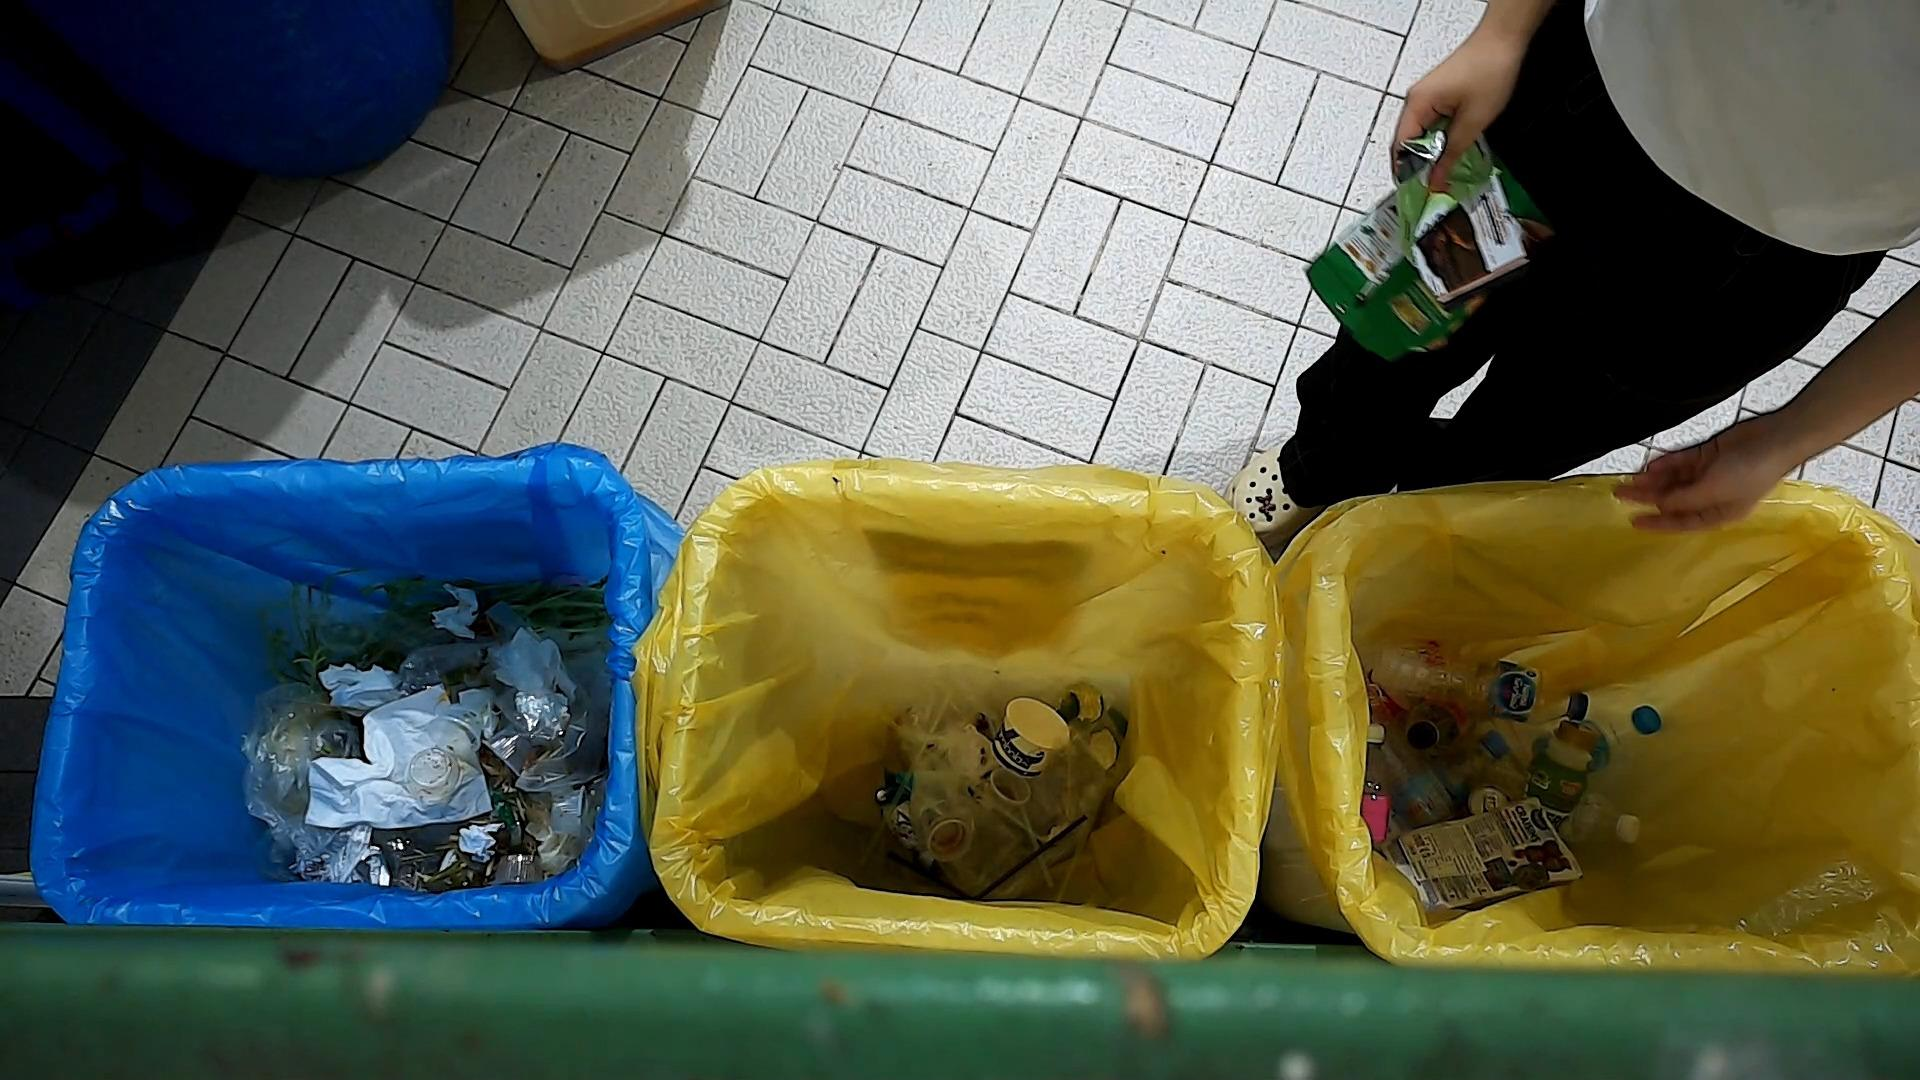can: (1465, 783, 1511, 818)
filled plastic bag: (235, 676, 384, 885)
food container: (993, 696, 1071, 778), (402, 744, 464, 806), (426, 704, 481, 757), (545, 783, 596, 840), (480, 727, 535, 775), (982, 764, 1035, 814), (920, 810, 971, 861), (491, 852, 545, 889)
plastic bottle: (1370, 632, 1593, 725), (1394, 729, 1513, 822), (1518, 719, 1601, 832), (1580, 700, 1664, 766), (1400, 696, 1477, 752), (1360, 721, 1393, 849)
snack packaging: (1298, 112, 1540, 372), (1398, 799, 1584, 911)
straw: (860, 691, 953, 861), (973, 811, 1091, 902), (1050, 803, 1102, 906), (1014, 799, 1051, 880)
tissue paper: (301, 684, 493, 828), (492, 624, 566, 696), (315, 661, 409, 712), (430, 582, 481, 640), (458, 820, 496, 860)
